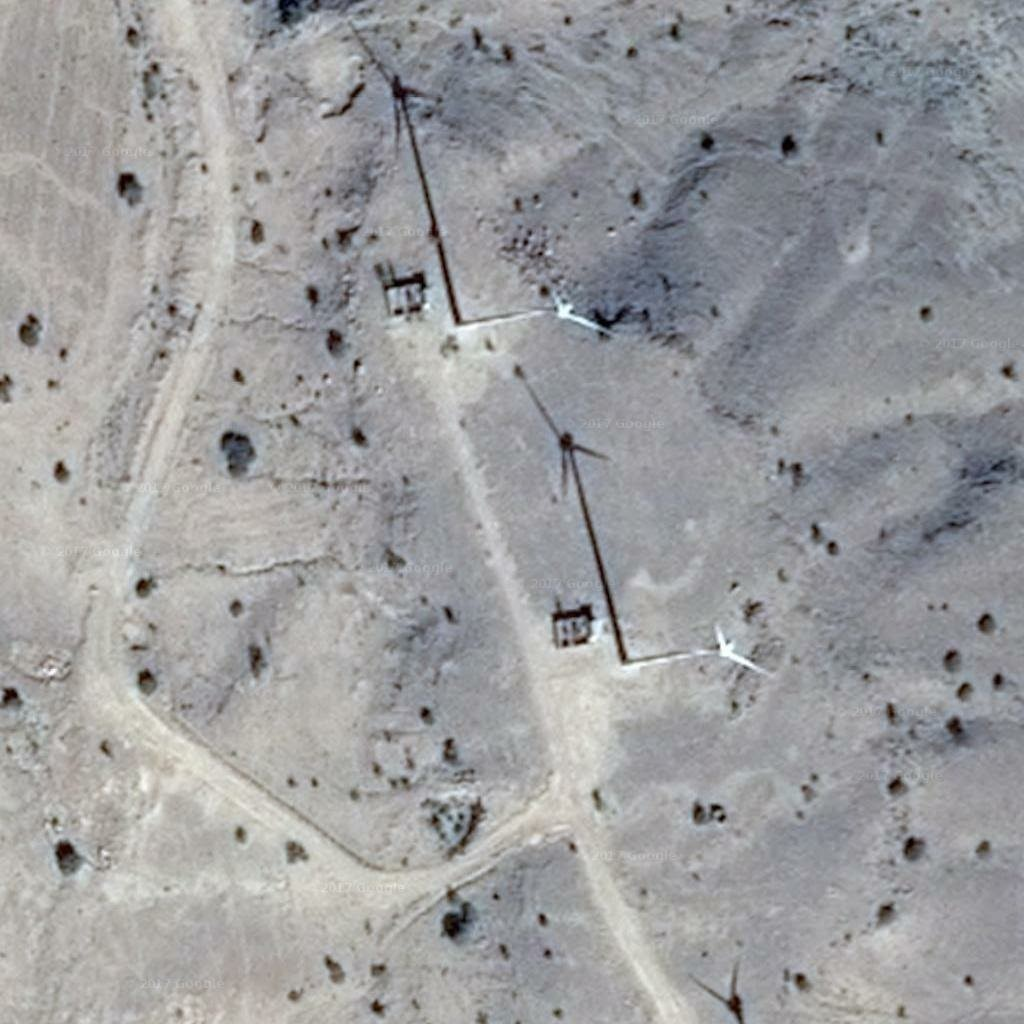Windmill: (516, 379, 638, 667)
